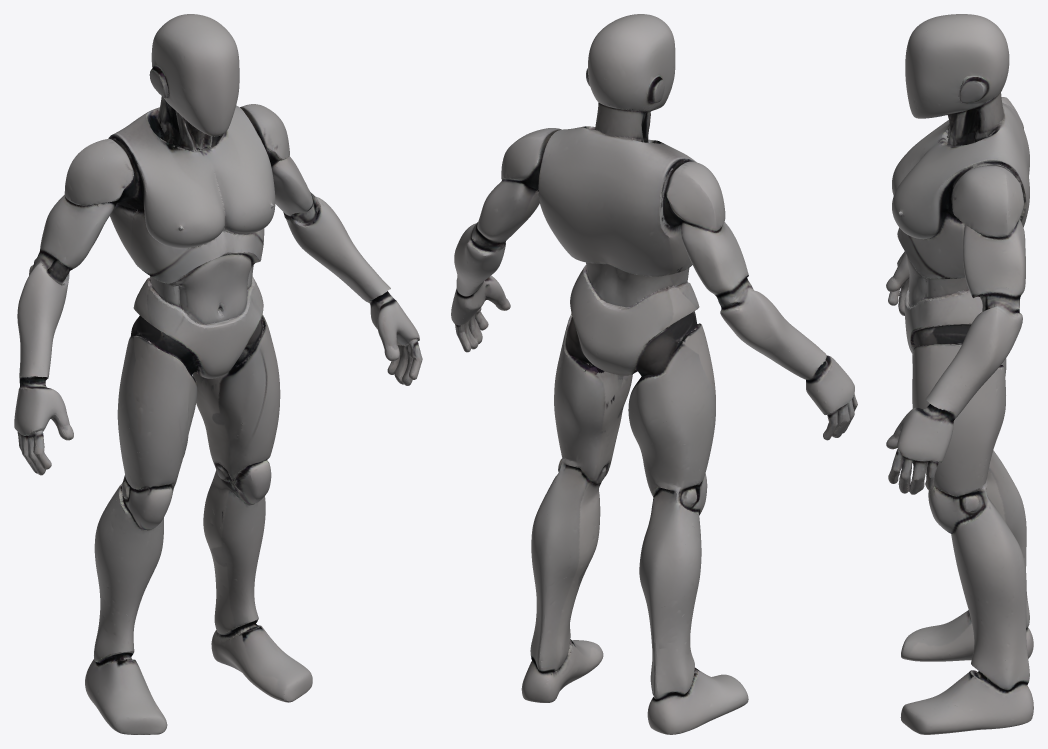
The model's file is base_basic_pbr.fbx.
3 views of the same model, side by side, from view 1: azimuth 30°, elevation 25°; view 2: azimuth 150°, elevation 25°; view 3: azimuth 270°, elevation 25° (orthographic).
Visible parts, largest first — view 1: model; view 2: model; view 3: model.
Part boxes in pixels (x1,y1,x2,y2): model: (14, 14, 422, 734); model: (451, 14, 857, 734); model: (886, 14, 1033, 734).
Size of the model in its own units: 115 by 190 by 37.84.
1 material, 1 textured.
